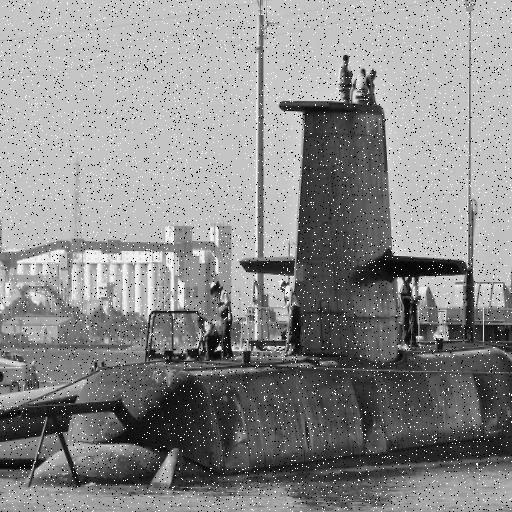submarine: (34, 109, 512, 486)
